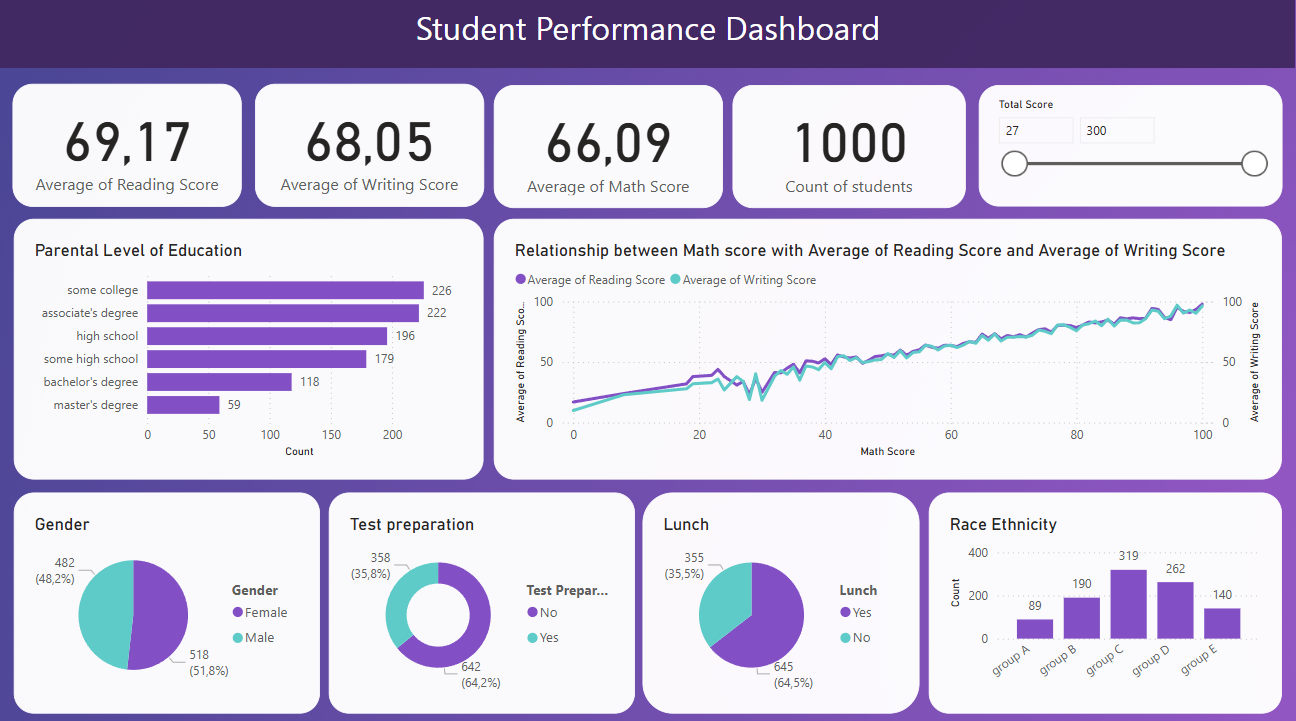

What the dashboard file says about the page in this screenshot:
{"tool":"powerbi","page":{"name":"Page 1","canvas":[1280,720],"ordinal":0},"visuals":[{"type":"pieChart","title":"Gender","fields":{"Y":["CountNonNull(Cleaned_Students_Performance.gender)"],"Category":["Cleaned_Students_Performance.gender"]},"box":[13.8,486.2,302.5,218.8],"z":0},{"type":"barChart","title":"Parental Level of Education","fields":{"Category":["Cleaned_Students_Performance.parental_level_of_education"],"Y":["CountNonNull(Cleaned_Students_Performance.parental_level_of_education)"]},"box":[13.8,216.2,463.8,257.5],"z":1000},{"type":"donutChart","title":"Test preparation","fields":{"Category":["Cleaned_Students_Performance.test_preparation_course"],"Y":["CountNonNull(Cleaned_Students_Performance.test_preparation_course)"]},"box":[325,486.2,302.5,218.8],"z":2000},{"type":"card","fields":{"Values":["Avg(Cleaned_Students_Performance.reading_score)"]},"box":[12.5,82.5,226.2,121.2],"z":3000},{"type":"card","fields":{"Values":["Avg(Cleaned_Students_Performance.math_score)"]},"box":[487.5,83.8,226.2,121.2],"z":4000},{"type":"card","fields":{"Values":["Avg(Cleaned_Students_Performance.writing_score)"]},"box":[251.2,82.5,226.2,121.2],"z":5000},{"type":"columnChart","title":"Race Ethnicity","fields":{"Category":["Cleaned_Students_Performance.race_ethnicity"],"Y":["CountNonNull(Cleaned_Students_Performance.race_ethnicity)"]},"box":[917.5,486.2,348.8,218.8],"z":6000},{"type":"textbox","box":[0,0,1280,67.1],"z":7000},{"type":"pieChart","title":"Lunch","fields":{"Y":["CountNonNull(Cleaned_Students_Performance.lunch)"],"Category":["Cleaned_Students_Performance.lunch"]},"box":[635,486.2,273.8,218.8],"z":8000},{"type":"card","fields":{"Values":["CountNonNull(Cleaned_Students_Performance.gender)"]},"box":[723.8,83.8,230,121.2],"z":9000},{"type":"lineChart","title":"Relationship between Math score with Average of Reading Score and Average of Writing Score","fields":{"Category":["Cleaned_Students_Performance.math_score"],"Y":["Avg(Cleaned_Students_Performance.reading_score)"],"Y2":["Avg(Cleaned_Students_Performance.writing_score)"]},"box":[487.5,216.2,778.8,257.5],"z":10000},{"type":"slicer","fields":{"Values":["Cleaned_Students_Performance.total_score"]},"box":[966.2,83.8,300,120],"z":11000}]}

Visuals, with their boxes in screenshot pixels (x1, y1, x2, y2), scaled from the page's 1280x720 canvas onto the 1296x721 screenshot:
"Gender" pieChart: pyautogui.locateOnScreen(14, 487, 320, 706)
"Parental Level of Education" barChart: pyautogui.locateOnScreen(14, 217, 484, 474)
"Test preparation" donutChart: pyautogui.locateOnScreen(329, 487, 635, 706)
card - Avg(Cleaned_Students_Performance.reading_score): pyautogui.locateOnScreen(13, 83, 242, 204)
card - Avg(Cleaned_Students_Performance.math_score): pyautogui.locateOnScreen(494, 84, 723, 205)
card - Avg(Cleaned_Students_Performance.writing_score): pyautogui.locateOnScreen(254, 83, 483, 204)
"Race Ethnicity" columnChart: pyautogui.locateOnScreen(929, 487, 1282, 706)
textbox: pyautogui.locateOnScreen(0, 0, 1295, 67)
"Lunch" pieChart: pyautogui.locateOnScreen(643, 487, 920, 706)
card - CountNonNull(Cleaned_Students_Performance.gender): pyautogui.locateOnScreen(733, 84, 966, 205)
"Relationship between Math score with Average of Reading Score and Average of Writing Score" lineChart: pyautogui.locateOnScreen(494, 217, 1282, 474)
slicer - Cleaned_Students_Performance.total_score: pyautogui.locateOnScreen(978, 84, 1282, 204)
